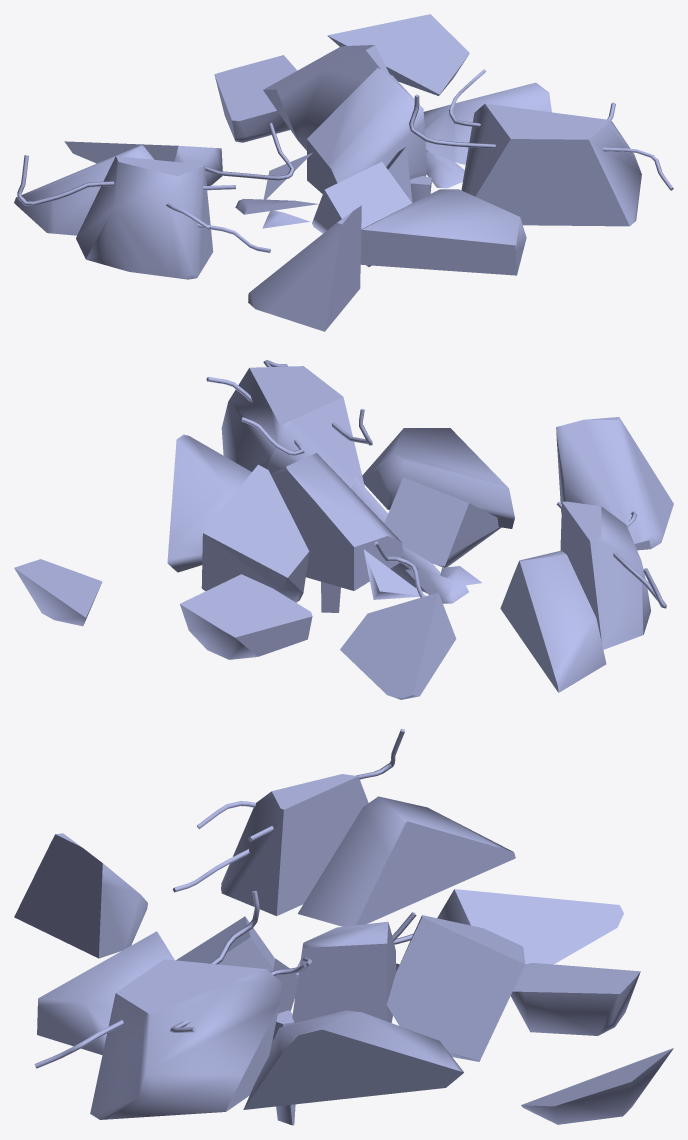
Rendered from ConcreteStackCell_01.fbx.
The picture shows the model from 3 angles, top to bottom: view 1: azimuth 30°, elevation 25°; view 2: azimuth 150°, elevation 25°; view 3: azimuth 270°, elevation 25°; orthographic projection. The views are drawn at different scales.
Visible parts, largest first — view 1: Concrete_Stack_Cell_01_LOD0; view 2: Concrete_Stack_Cell_01_LOD0; view 3: Concrete_Stack_Cell_01_LOD0.
Boxes of the visible parts, x1,y1,x2,y2 form: Concrete_Stack_Cell_01_LOD0: (14, 14, 673, 331); Concrete_Stack_Cell_01_LOD0: (14, 360, 673, 699); Concrete_Stack_Cell_01_LOD0: (14, 728, 673, 1125).
Size of what is drawn, in the model's own units: 2.52 by 0.8574 by 2.32.
